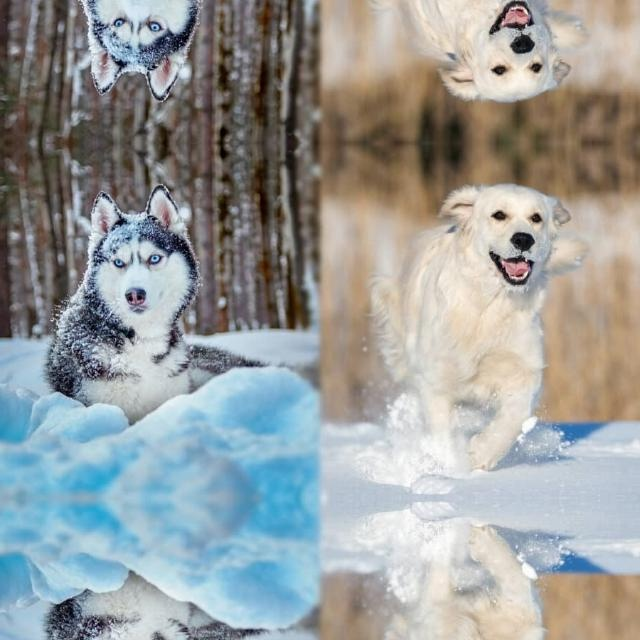dog: (365, 172, 580, 472), (50, 188, 232, 442), (365, 523, 580, 640), (365, 0, 580, 112), (50, 0, 232, 96), (50, 553, 232, 640)
